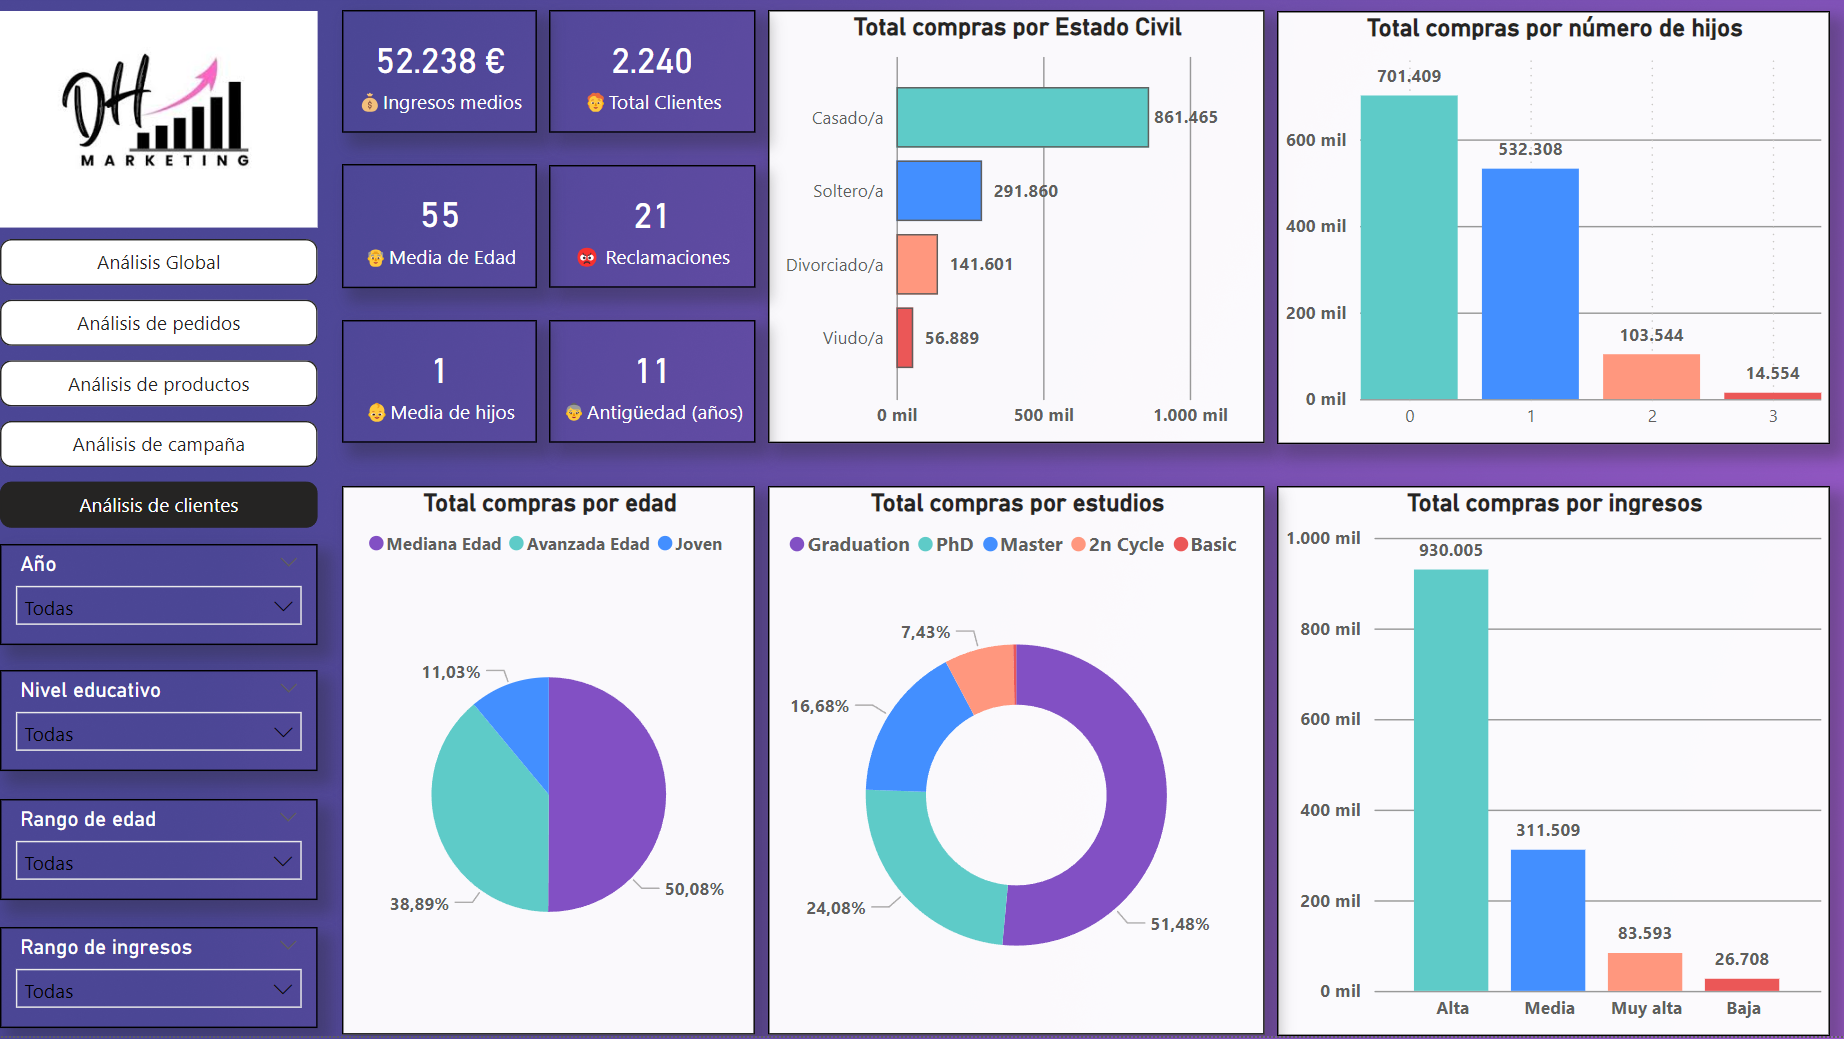

Layout of this report page (visuals, bound fields, positions):
{"tool":"powerbi","page":{"name":"Análisis de clientes","canvas":[1280,720],"ordinal":4},"visuals":[{"type":"pieChart","title":"Total compras por edad","fields":{"Category":["D_Edad.Rango_Edad"],"Y":["DAX Medidas.Total compras"]},"box":[236.7,339.5,286.5,380.5],"z":0},{"type":"clusteredBarChart","title":"Total compras por Estado Civil","fields":{"Category":["D_Estado_Civil.Estado_Civil_R"],"Y":["DAX Medidas.Total compras"]},"box":[532,10,344,299.7],"z":1000},{"type":"clusteredColumnChart","title":"Total compras por ingresos","fields":{"Category":["D_Ingresos.Rango_Ingresos"],"Y":["DAX Medidas.Total compras"]},"box":[884.5,339.7,383,380.7],"z":2000},{"type":"columnChart","title":"Total compras por número de hijos","fields":{"Y":["DAX Medidas.Total compras"],"Category":["D_Hijos.Total_Hijos"]},"box":[884.5,10.3,383,299.8],"z":3000},{"type":"donutChart","title":"Total compras por estudios","fields":{"Y":["DAX Medidas.Total compras"],"Category":["D_Nivel_Estudios.Nivel_Estudios"]},"box":[532,339.5,344,380.5],"z":4000},{"type":"card","fields":{"Values":["DAX Medidas.Media de ingresos"]},"box":[236.7,10,134.9,85.2],"z":5000},{"type":"card","fields":{"Values":["DAX Medidas.Media de edad"]},"box":[236.7,116.1,134.9,86.3],"z":6000},{"type":"card","fields":{"Values":["DAX Medidas.Media de hijos"]},"box":[236.7,224.5,134.9,85.2],"z":7000},{"type":"image","box":[0,10.3,220,150],"z":8000},{"type":"slicer","fields":{"Values":["Calendario.Año"]},"box":[0,379.4,220.1,69.7],"z":9000},{"type":"slicer","fields":{"Values":["D_Ingresos.Rango_Ingresos"]},"box":[0,644.5,219.9,70.3],"z":10000},{"type":"slicer","fields":{"Values":["D_Edad.Rango_Edad"]},"box":[0,556.5,219.8,70.4],"z":11000},{"type":"pageNavigator","box":[0,168.1,220.1,200.2],"z":12000},{"type":"slicer","fields":{"Values":["D_Nivel_Estudios.Nivel_Estudios"]},"box":[0,466.7,220.1,69.7],"z":13000},{"type":"card","fields":{"Values":["DAX Medidas.Total Clientes"]},"box":[380.5,10,142.7,85.2],"z":14000},{"type":"card","fields":{"Values":["DAX Medidas.Total reclamaciones"]},"box":[380.5,117.2,142.7,85.2],"z":15000},{"type":"card","fields":{"Values":["Avg(marketing_campaign.Antiguedad)"]},"box":[380.5,224.5,142.7,85.2],"z":16000}]}

Visuals, with their boxes in screenshot pixels (x1, y1, x2, y2), scaled from the page's 1280x720 canvas onto the 1844x1039 screenshot:
"Total compras por edad" pieChart: (341,490,754,1038)
"Total compras por Estado Civil" clusteredBarChart: (766,14,1262,447)
"Total compras por ingresos" clusteredColumnChart: (1274,490,1826,1038)
"Total compras por número de hijos" columnChart: (1274,15,1826,447)
"Total compras por estudios" donutChart: (766,490,1262,1038)
card - DAX Medidas.Media de ingresos: (341,14,535,137)
card - DAX Medidas.Media de edad: (341,168,535,292)
card - DAX Medidas.Media de hijos: (341,324,535,447)
image: (0,15,317,231)
slicer - Calendario.Año: (0,547,317,648)
slicer - D_Ingresos.Rango_Ingresos: (0,930,317,1031)
slicer - D_Edad.Rango_Edad: (0,803,317,905)
pageNavigator: (0,243,317,531)
slicer - D_Nivel_Estudios.Nivel_Estudios: (0,673,317,774)
card - DAX Medidas.Total Clientes: (548,14,754,137)
card - DAX Medidas.Total reclamaciones: (548,169,754,292)
card - Avg(marketing_campaign.Antiguedad): (548,324,754,447)
